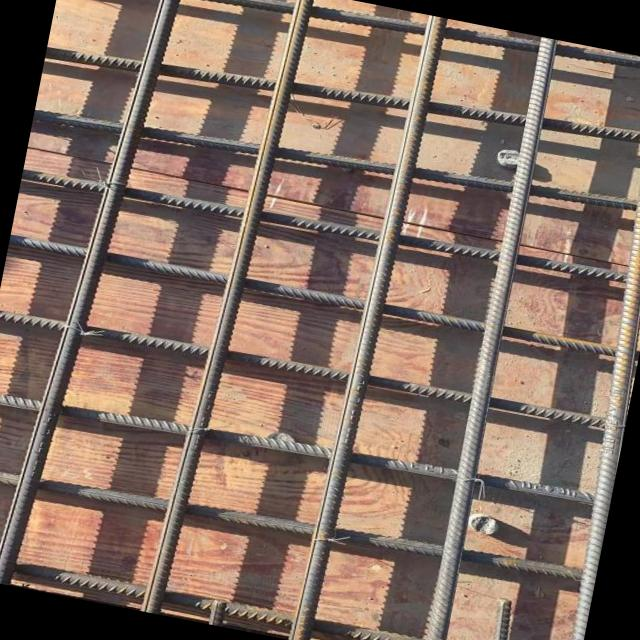ribbed bar: (0, 0, 187, 595), (138, 0, 315, 620), (285, 11, 447, 640), (44, 14, 640, 180), (32, 81, 640, 242), (21, 154, 640, 301), (8, 226, 640, 368), (0, 373, 594, 524), (0, 448, 583, 599), (418, 37, 562, 640), (0, 299, 605, 440), (537, 60, 640, 640), (60, 0, 640, 100), (0, 543, 564, 640), (481, 598, 516, 640)
